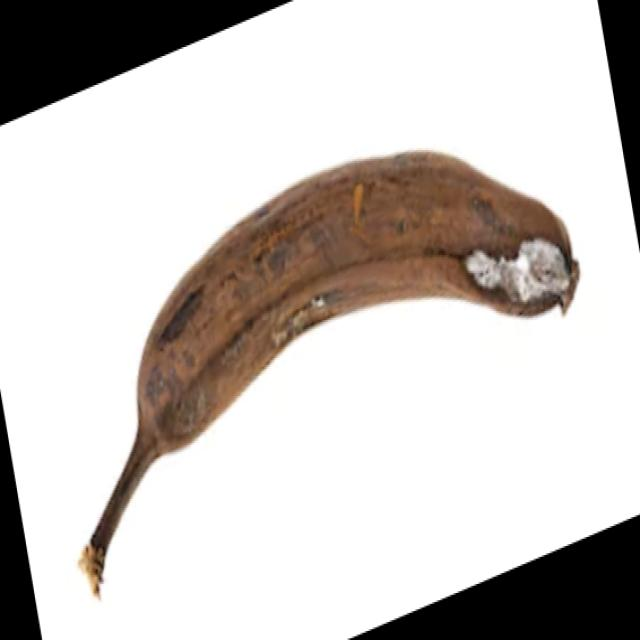Rotten: (9, 98, 593, 624)
